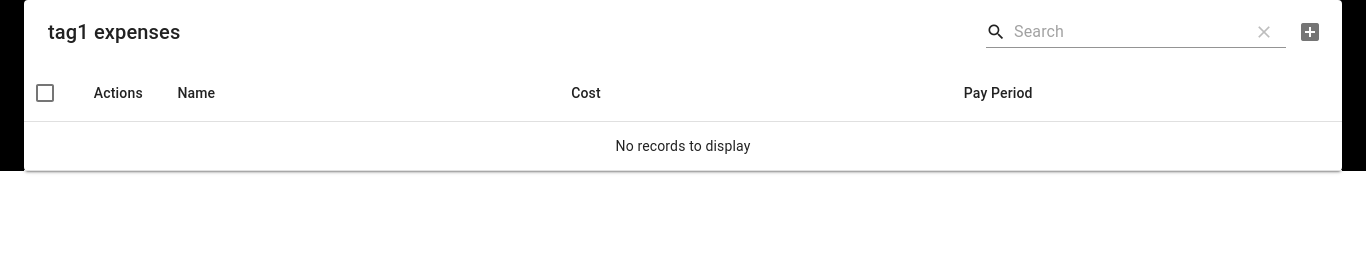
Expense Entry Table › Should be able to create an entry
Step 1. Click the button "add_box" → (1310,32), box [1286, 8, 1334, 56]
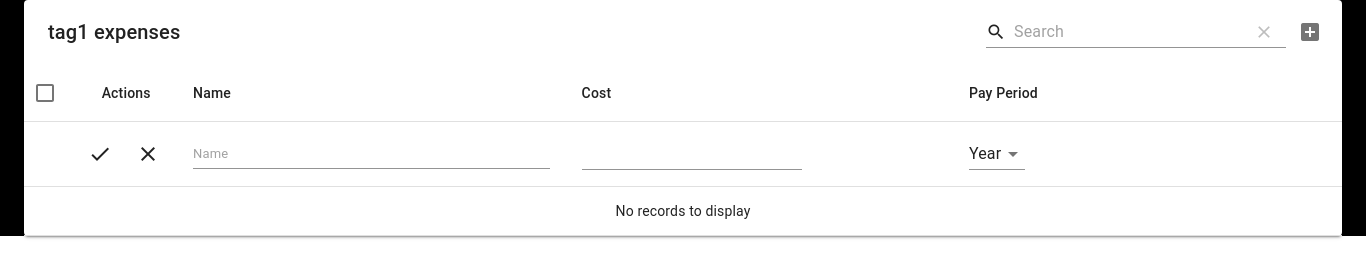
Step 2. Type "new entry" into the field with placeholder "Name" → (371,154), box [193, 140, 550, 168]
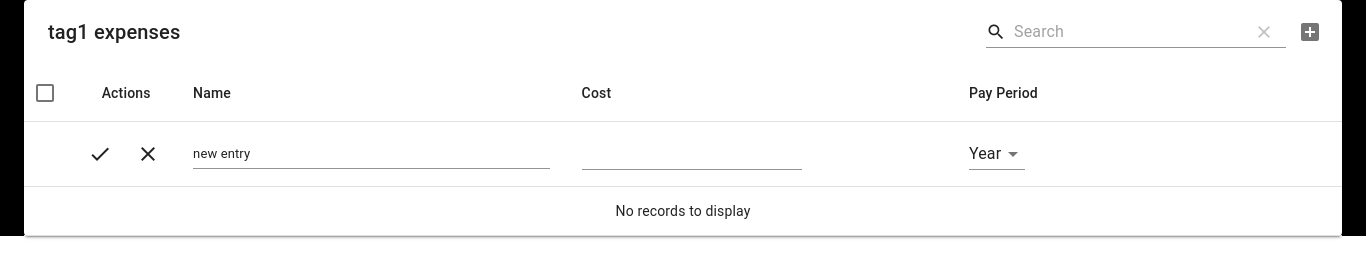
Step 3. Type "1" into the number field named "cost-input" → (692,154), box [582, 138, 802, 170]
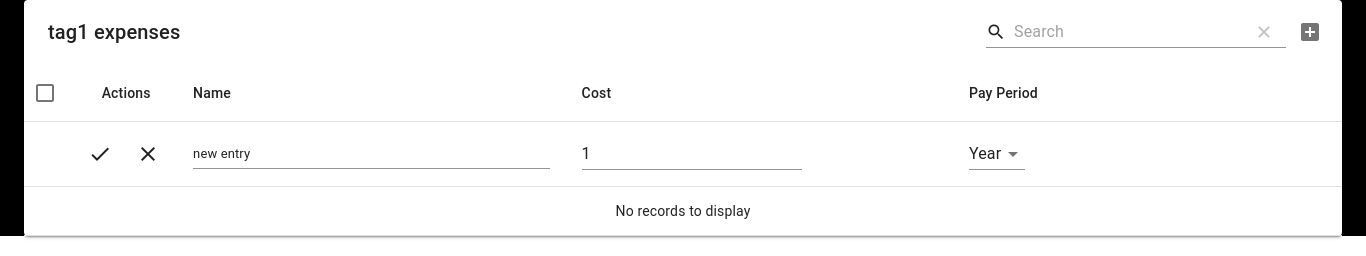
Step 4. Click the button "check" → (100,154), box [76, 130, 124, 178]
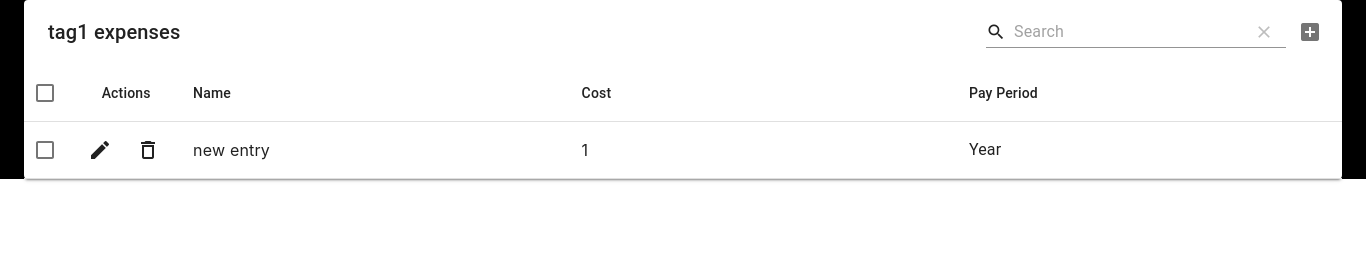
Expected: the text "Year" is shown, [969, 140, 1001, 159]
Expected: the text "new entry" is shown, [177, 122, 566, 179]
Expected: the text "1" is shown, [566, 122, 953, 179]
